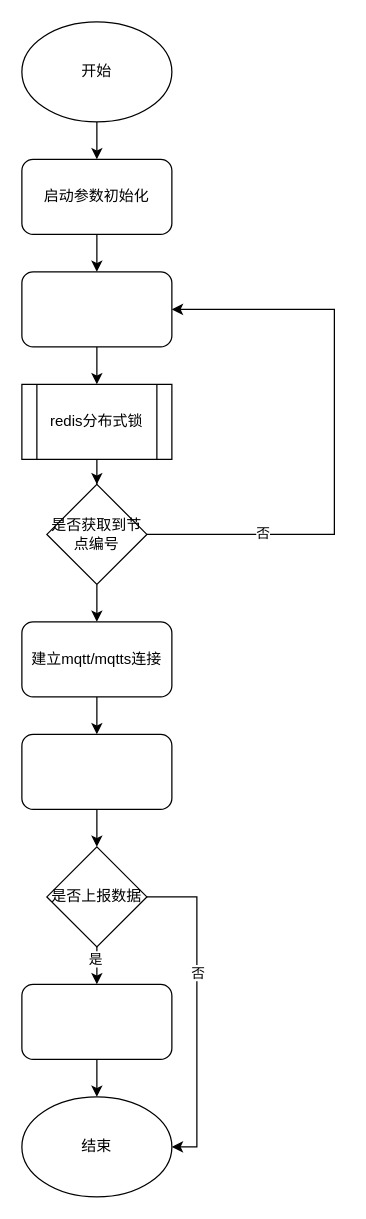
Image size: 366x1219. Some labels were removed from this diagram. Here are the shapes that lost their labels. From the top down, the centre of each, then its label:
At point 96,309: "获得终端节点编号".
At point 96,771: "订阅topic".
At point 96,1021: "启动上报定时器".
